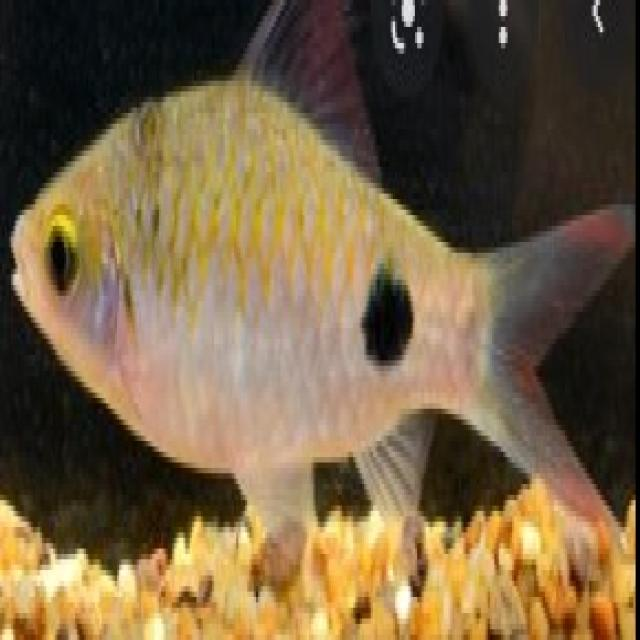Black-Spotted-Barb: (2, 18, 638, 604)
